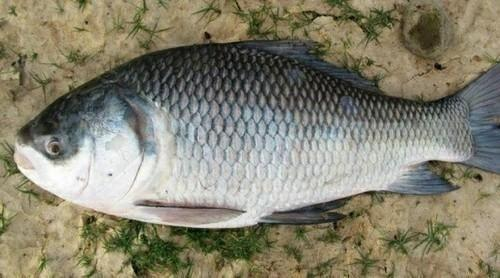Indian Carp: (0, 4, 486, 229)
